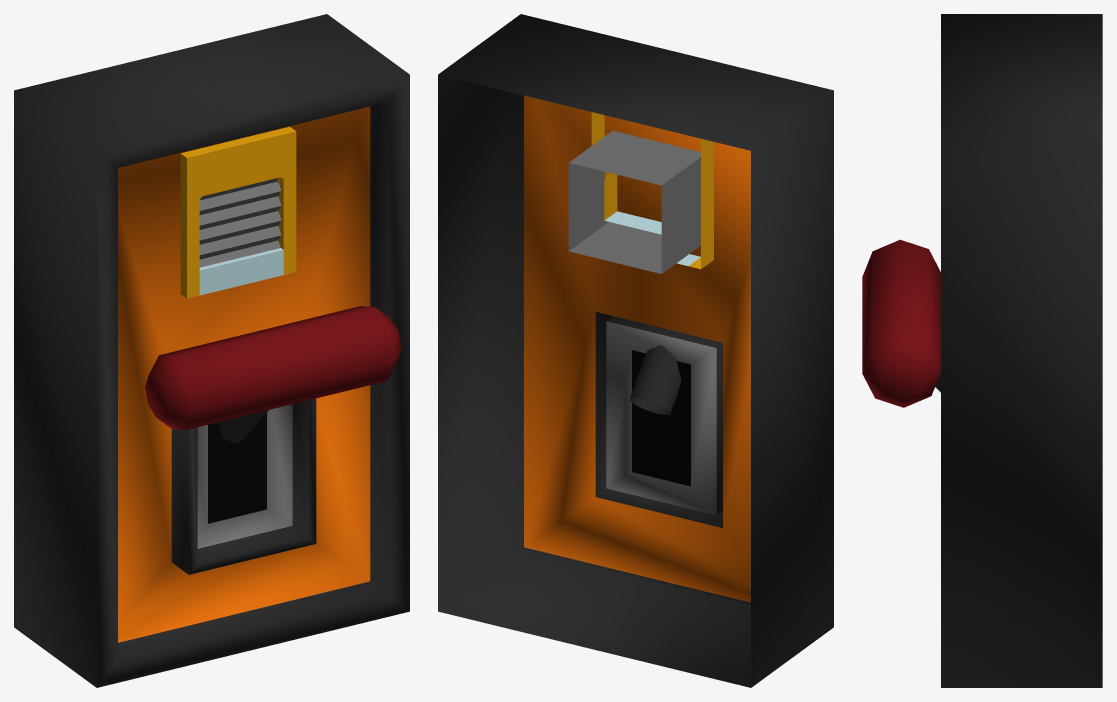
Rendered from alavanca.fbx.
3 views of the same model, side by side, from view 1: azimuth 30°, elevation 25°; view 2: azimuth 150°, elevation 25°; view 3: azimuth 270°, elevation 25° (orthographic). The views are drawn at different scales.
Visible parts, largest first — view 1: Caixa_Alavanca, Alavanca; view 2: Caixa_Alavanca, Alavanca; view 3: Caixa_Alavanca, Alavanca.
Boxes of the visible parts, x1,y1,x2,y2 form: Caixa_Alavanca: (14,14,409,687); Alavanca: (145,306,401,443); Caixa_Alavanca: (438,14,833,687); Alavanca: (630,328,681,415); Caixa_Alavanca: (941,14,1102,687); Alavanca: (862,239,940,407).
Size of the model in its own units: 0.1874 by 0.3072 by 0.1277.
